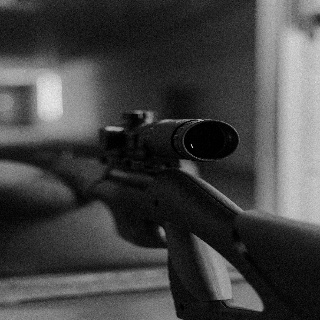rifle: (3, 108, 320, 319)
